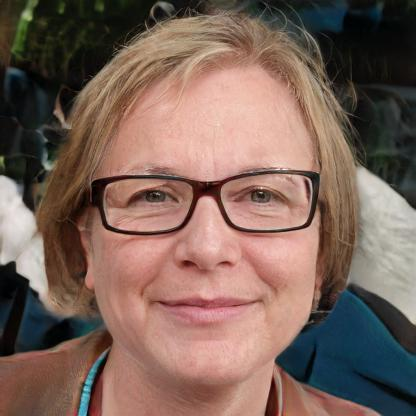glasses: (84, 164, 321, 238)
